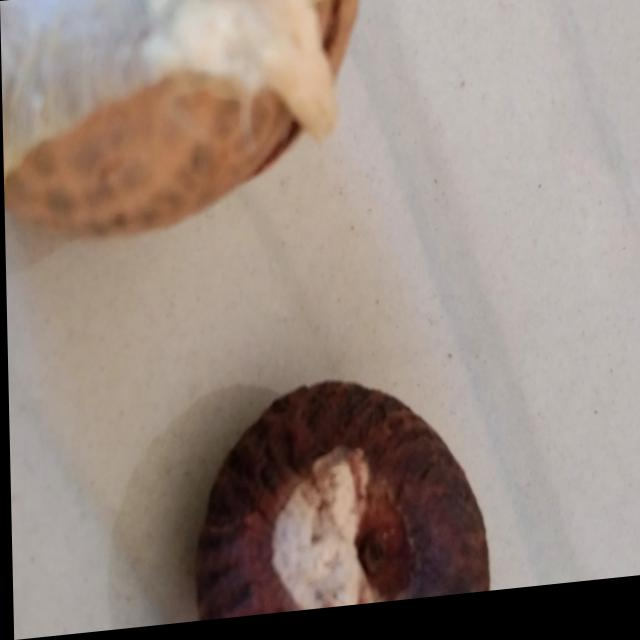karigot: (186, 368, 500, 625)
phatora: (1, 0, 377, 287)
